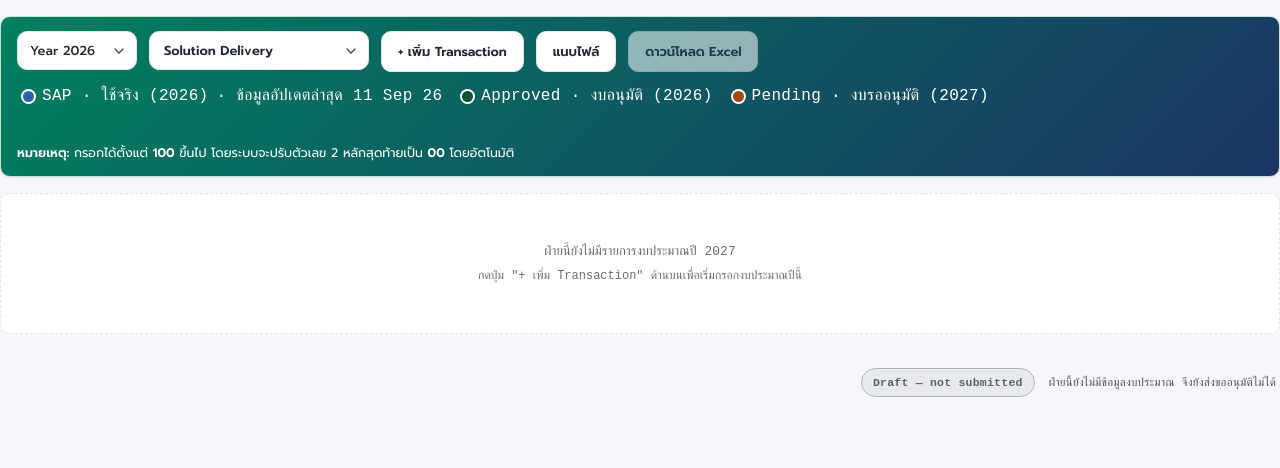
Test: BudgetGrid › a successful "+ เพิ่ม Transaction" with a NORMAL (non-special) GL on an empty department refreshes the Submit button without a page reload (gap closed 2026-09-1
Check: the text "ฝ่ายนี้ยังไม่มีรายการงบประมาณปี 2027" is shown, box [544, 244, 736, 258]
Check: the text "ฝ่ายนี้ยังไม่มีข้อมูลงบประมาณ จึงยังส่งขออนุมัติไม่ได้" is shown, box [1049, 374, 1276, 391]
Click the button "+ เพิ่ม Transaction": (452, 52) [381, 31, 524, 72]
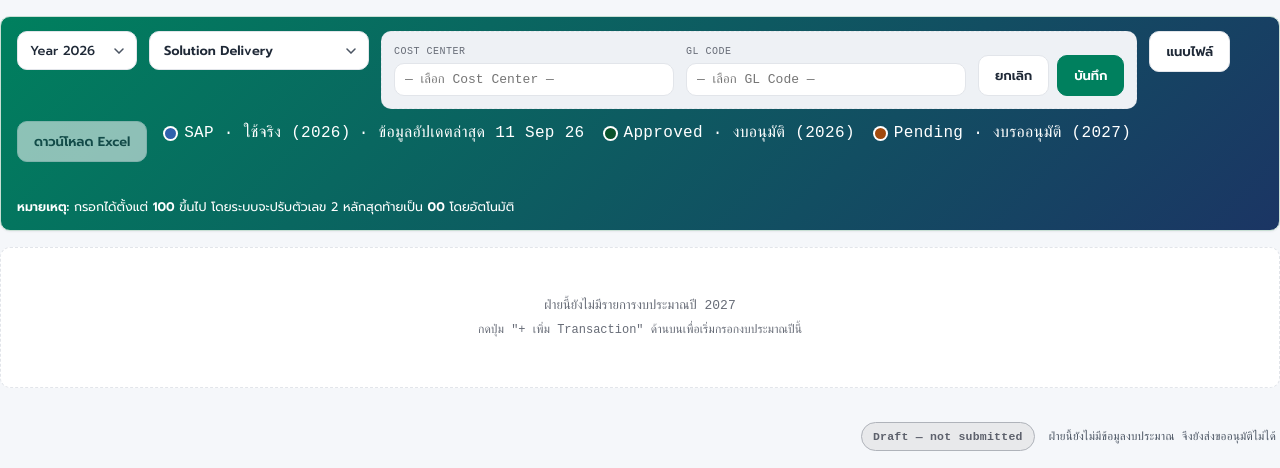
Focus the field labelled "Cost Center": (534, 80) [394, 63, 674, 96]
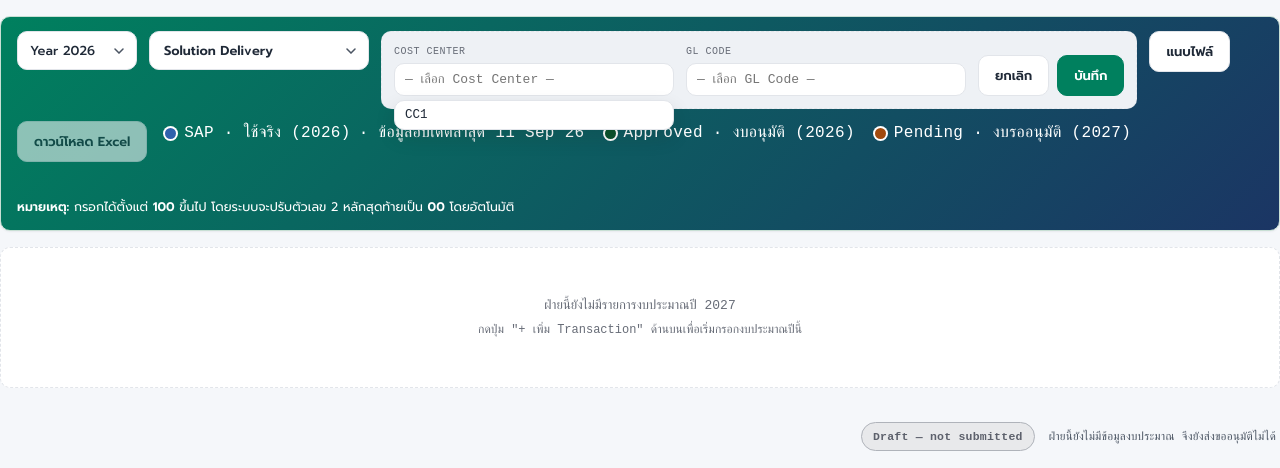
Click the option "CC1": (416, 115) [395, 101, 673, 129]
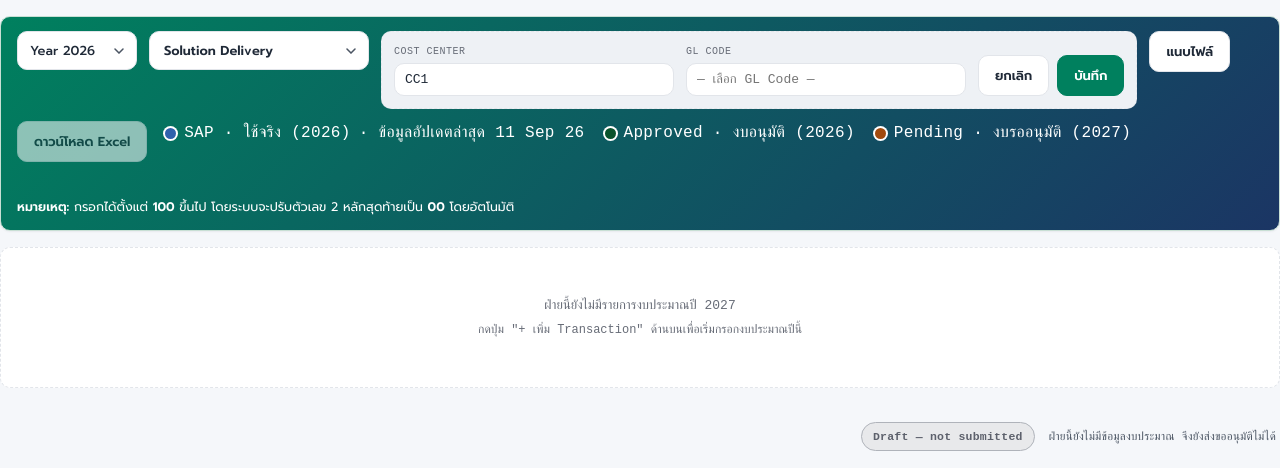
Focus the field labelled "GL Code": (826, 80) [686, 63, 966, 96]
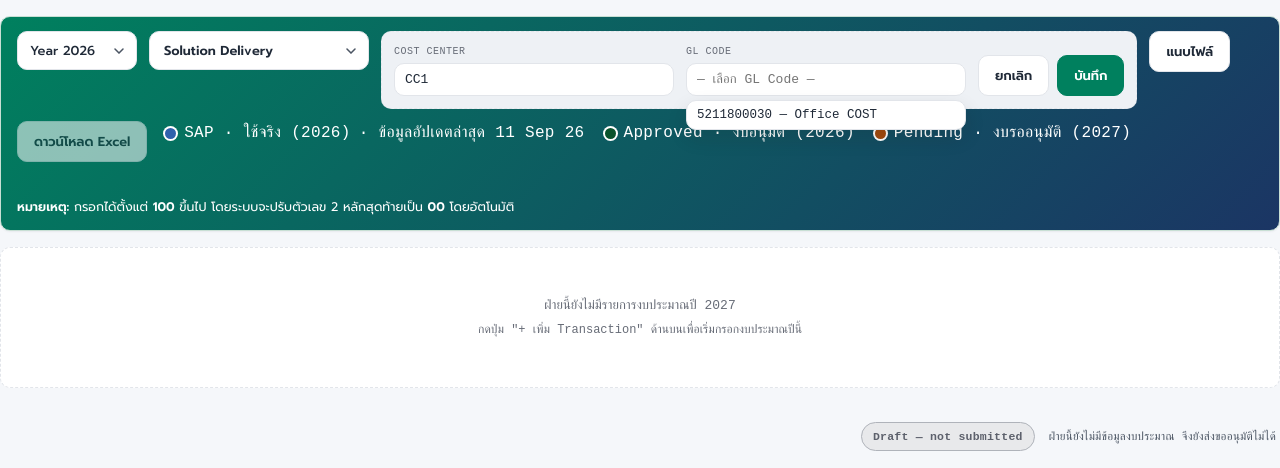
Click the option "5211800030 — Office COST": (826, 115) [687, 101, 965, 129]
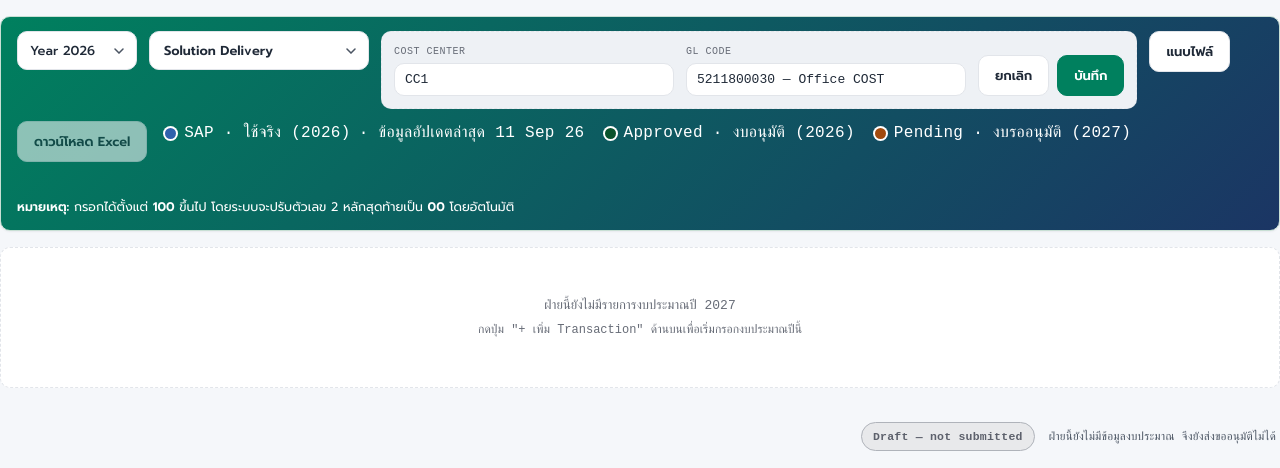
Click the button "บันทึก": (1091, 76) [1057, 55, 1124, 96]
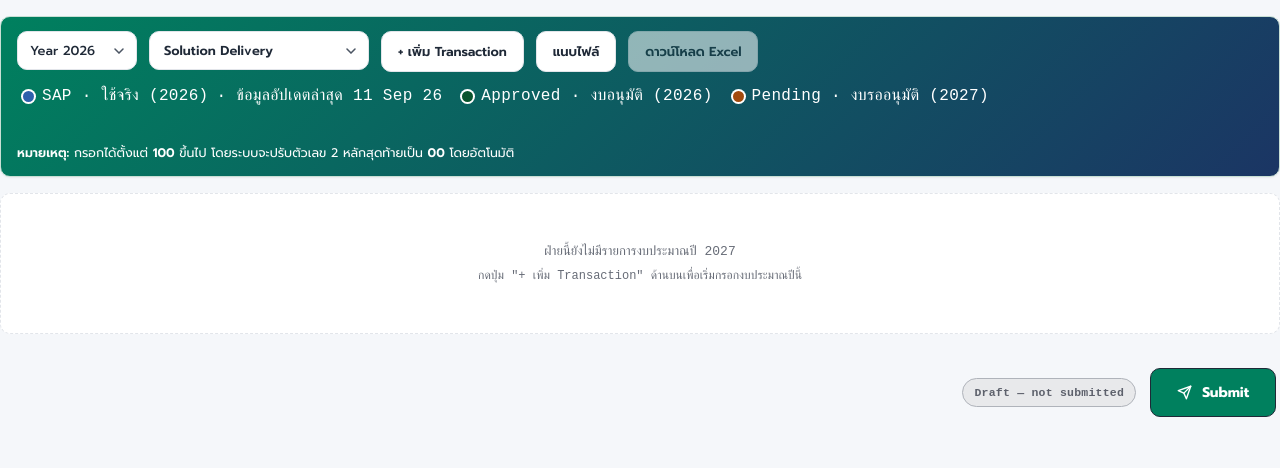
Check: the button with test id "approval-submit-btn" is shown, box [1150, 368, 1276, 417]
